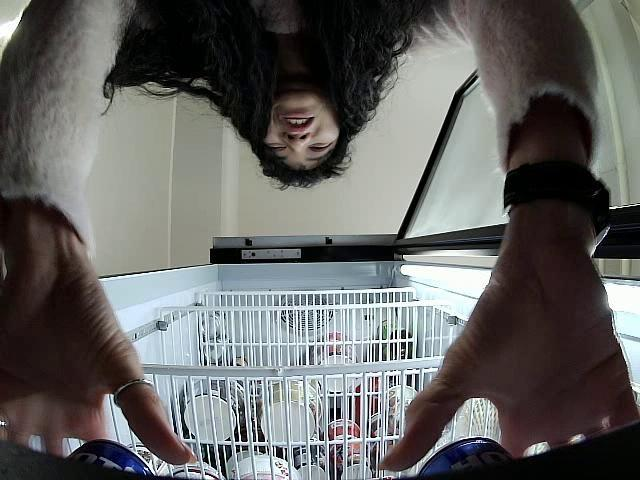16_hot6: (421, 434, 510, 478), (68, 436, 156, 476)
